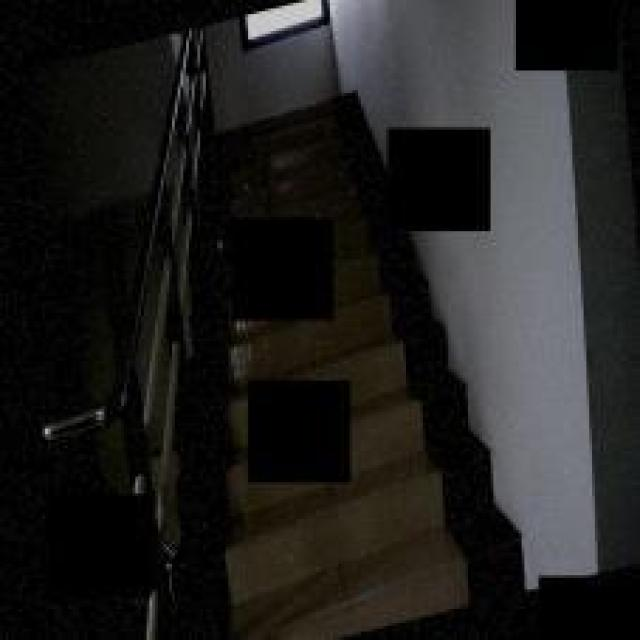upstair: (204, 156, 452, 638)
